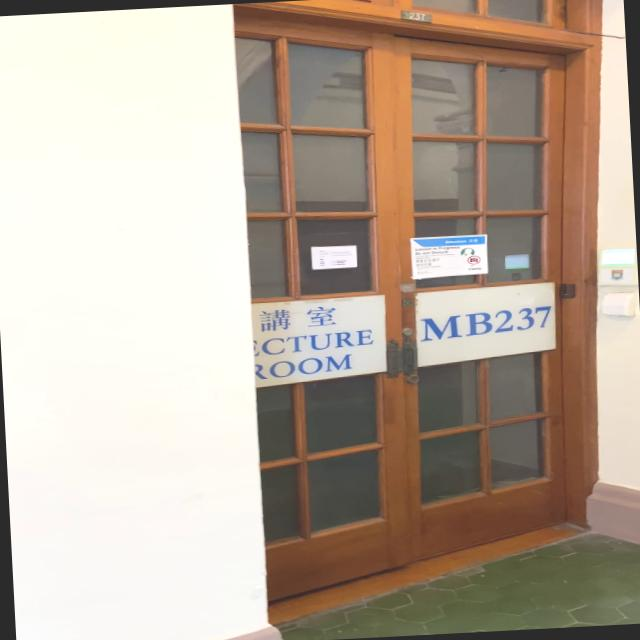room237: (400, 7, 431, 25)
room237Window: (416, 284, 556, 360)
